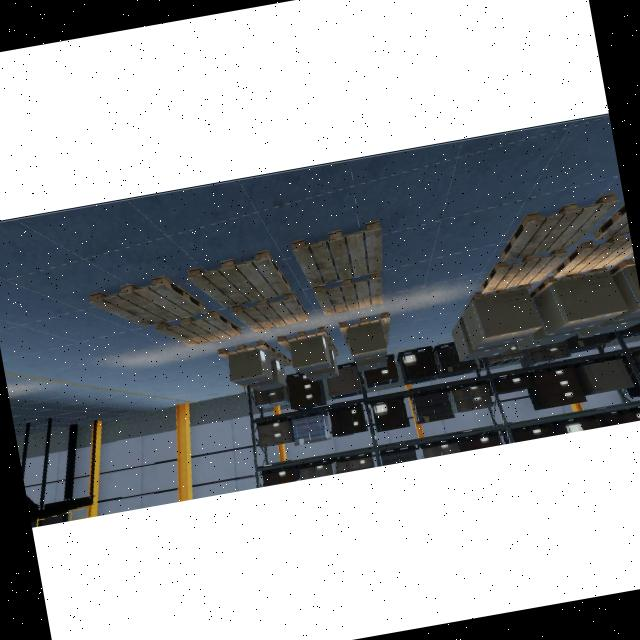wooden_pallet: (499, 192, 620, 261), (291, 218, 382, 287), (185, 249, 290, 307), (89, 275, 206, 327), (479, 246, 568, 293), (550, 233, 633, 276), (154, 310, 242, 346), (231, 292, 308, 333), (313, 271, 382, 315), (528, 265, 607, 300), (339, 311, 389, 341), (276, 326, 333, 352), (216, 339, 277, 359), (474, 283, 533, 298), (274, 352, 292, 366)
